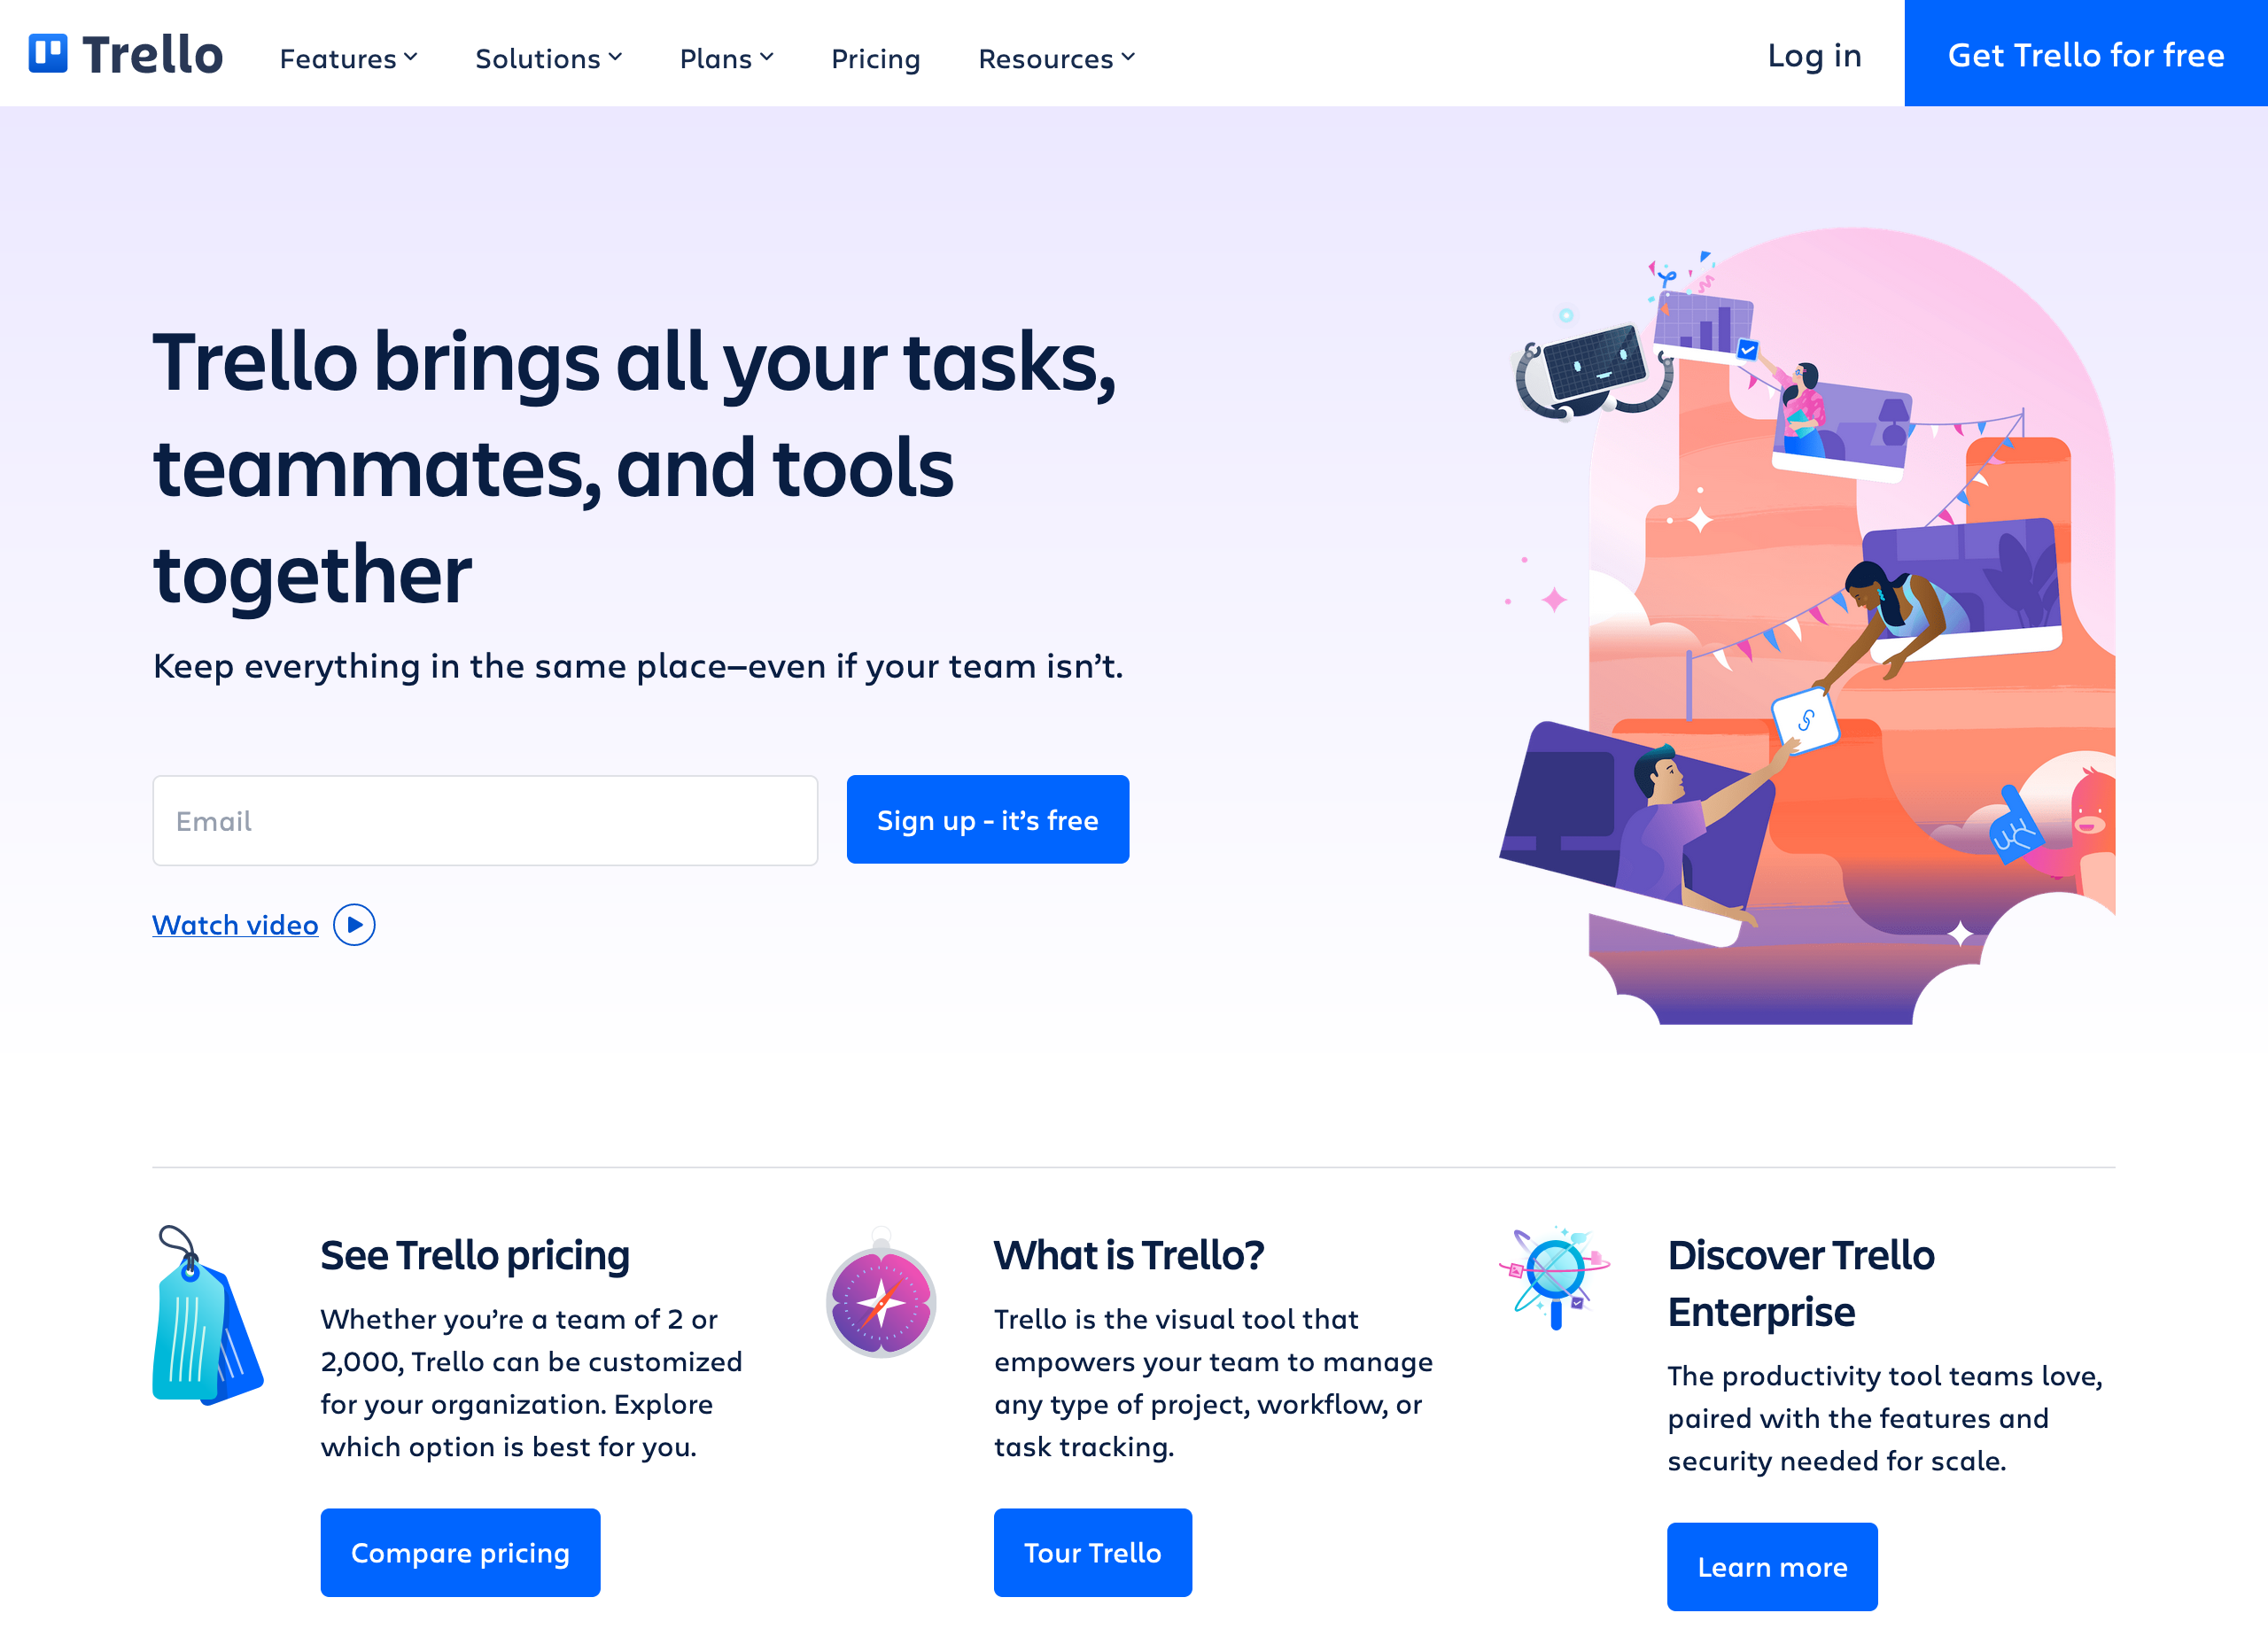Login: (1747, 18, 1882, 90)
